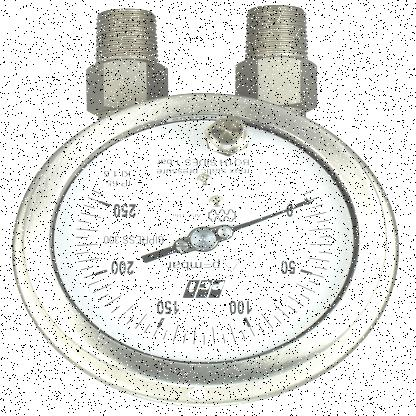needle: (231, 200, 314, 232)
